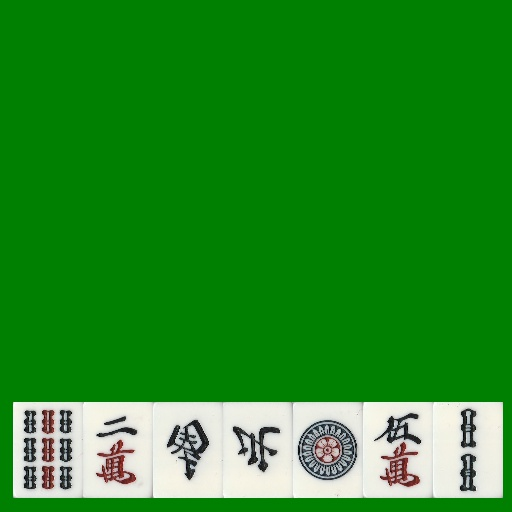1p: (293, 402, 363, 498)
2m: (83, 402, 153, 498)
2s: (433, 402, 503, 498)
5m: (363, 402, 433, 498)
9s: (13, 402, 83, 498)
north: (223, 402, 293, 498)
south: (153, 402, 223, 498)
